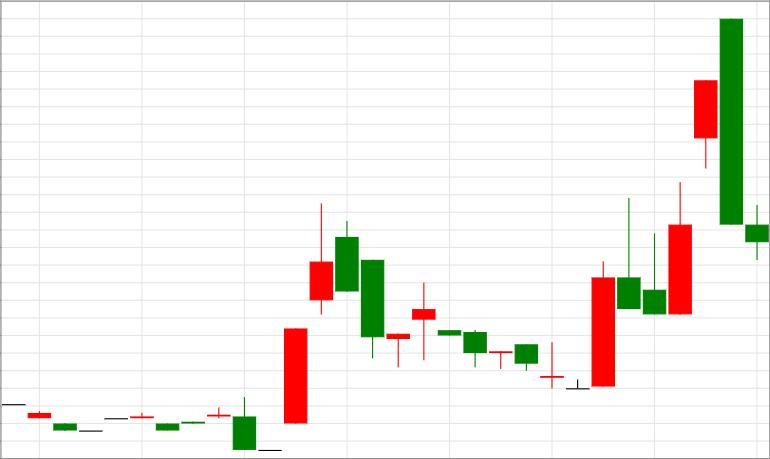bearish_engulfing_fall: (567, 19, 743, 390)
